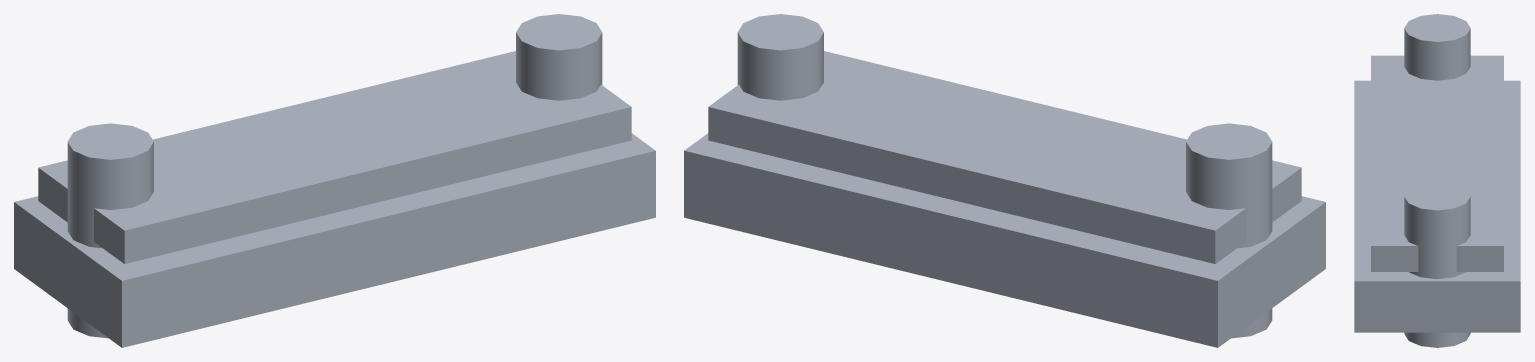
File: conveyor.glb
The picture shows the model from 3 angles, left to right: view 1: azimuth 30°, elevation 25°; view 2: azimuth 150°, elevation 25°; view 3: azimuth 270°, elevation 25°; orthographic projection. The views are drawn at different scales.
Bounding box in the file's own units: 1 × 0.32 × 0.35.
